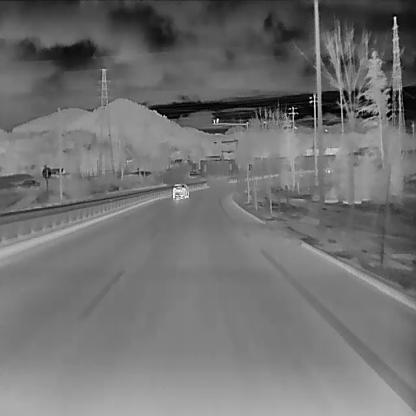car: (172, 183, 188, 198)
